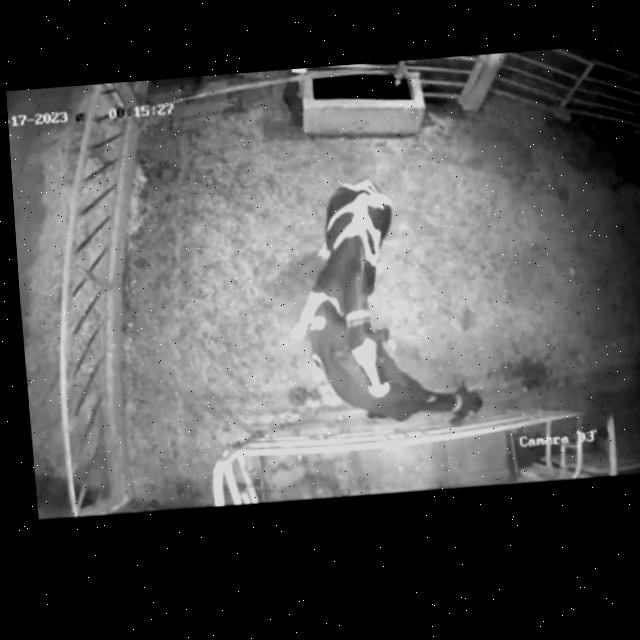ride: (273, 167, 418, 408)
stand: (301, 313, 507, 442)
